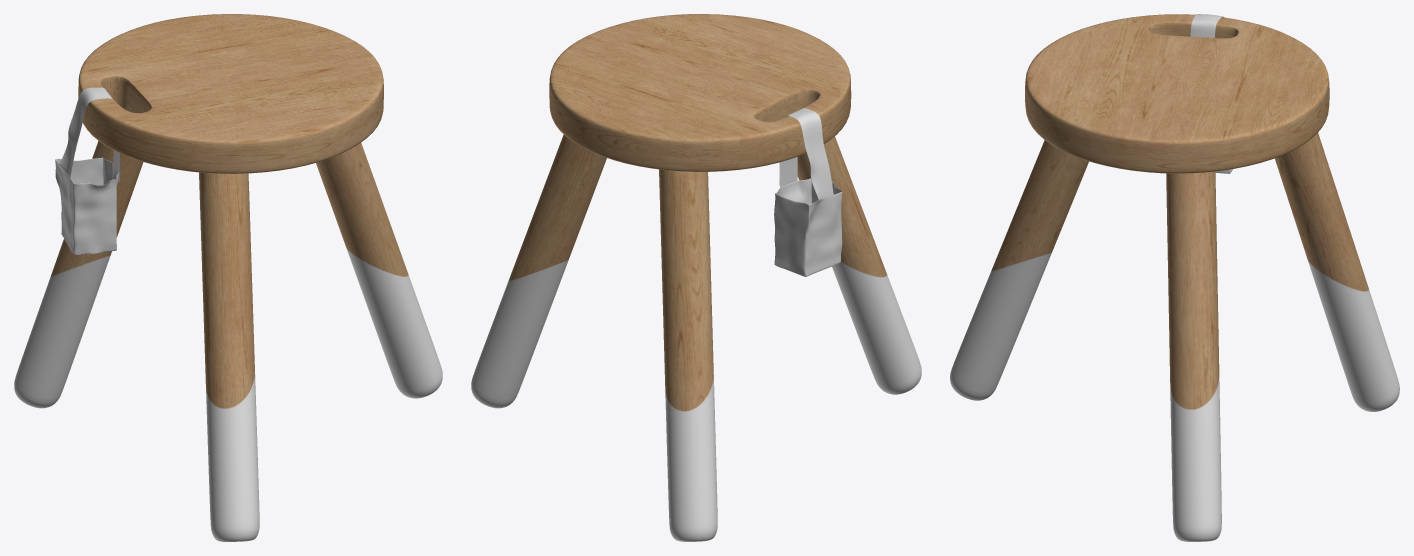
The model's file is round_stool.gltf.
3 renders of one model, left to right at view 1: azimuth 30°, elevation 25°; view 2: azimuth 150°, elevation 25°; view 3: azimuth 270°, elevation 25°, orthographic.
Parts seen in each view (by area): view 1: round_stool; view 2: round_stool; view 3: round_stool.
Boxes of the visible parts, x1,y1,x2,y2 form: round_stool: (14,14,442,541); round_stool: (471,14,921,541); round_stool: (950,14,1399,541).
Bounding box in the file's own units: 0.3398 × 0.3334 × 0.3603.
1 material, 1 textured.
